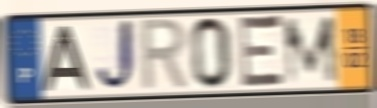0: (188, 16, 237, 91)
A: (40, 24, 94, 93)
E: (238, 12, 287, 91)
J: (93, 17, 138, 96)
M: (281, 13, 342, 88)
R: (139, 15, 192, 95)
